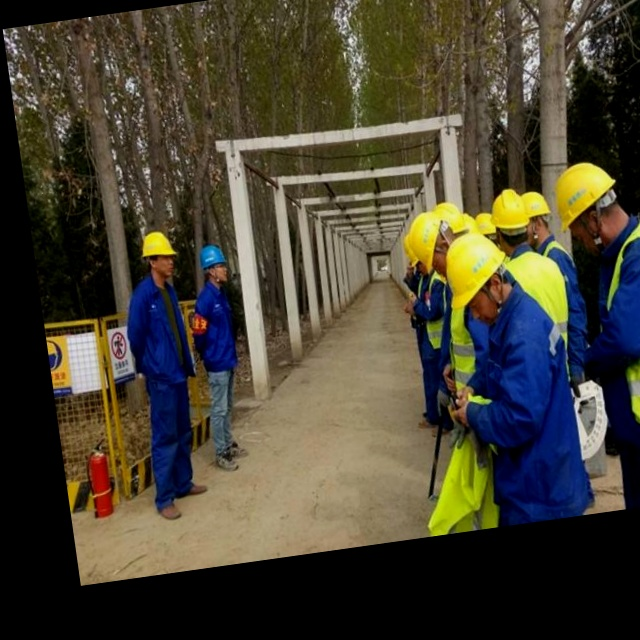Con_Casco: (444, 227, 512, 318), (136, 228, 177, 278)
Con_Chaleco: (578, 218, 640, 434)
Sin_Chaleco: (186, 283, 241, 371)
